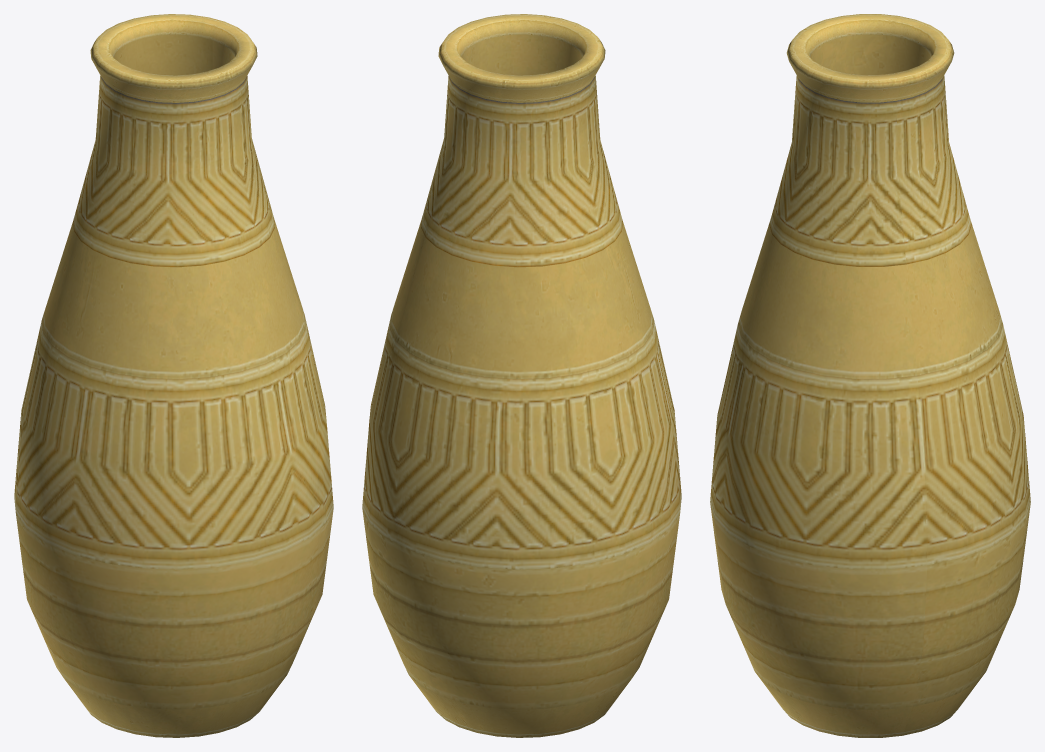
Rendered from Vase_02.fbx.
3 renders of one model, left to right at view 1: azimuth 30°, elevation 25°; view 2: azimuth 150°, elevation 25°; view 3: azimuth 270°, elevation 25°, orthographic.
Parts seen in each view (by area): view 1: Vase_02; view 2: Vase_02; view 3: Vase_02.
Part boxes in pixels (x1=…): Vase_02: x1=14, y1=14, x2=333, y2=737; Vase_02: x1=362, y1=14, x2=681, y2=737; Vase_02: x1=710, y1=14, x2=1030, y2=737.
Bounding box in the file's own units: 33.11 × 74.86 × 33.36.
